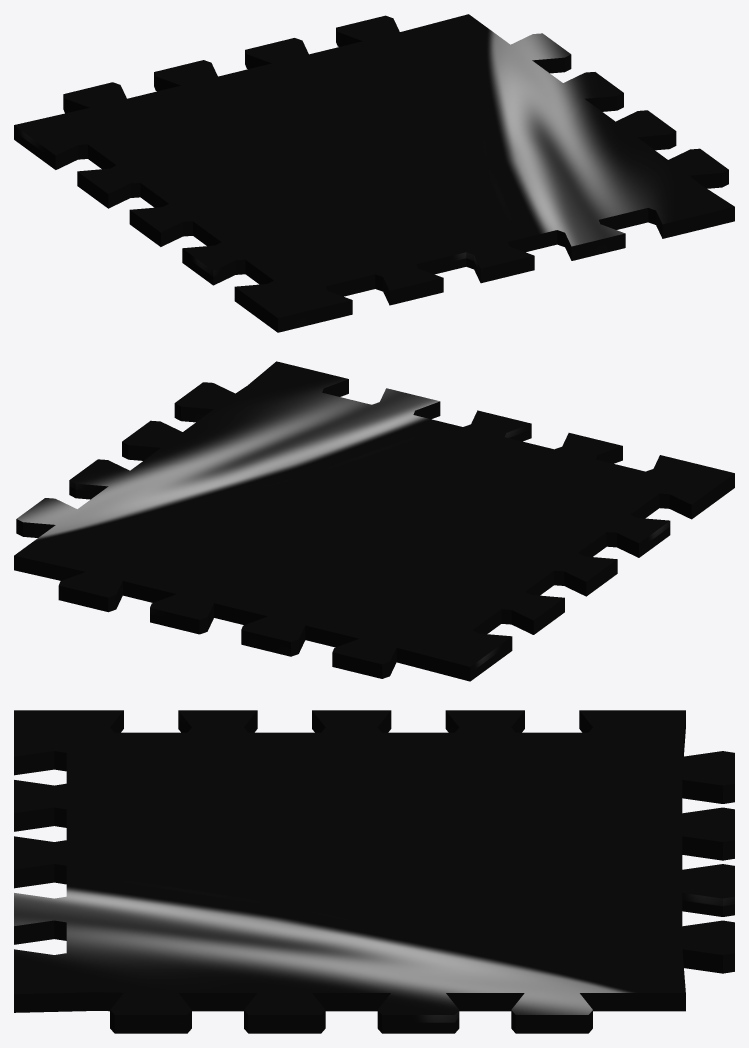
Rendered from carpet_puzzle2.fbx.
The picture shows the model from 3 angles, top to bottom: view 1: azimuth 30°, elevation 25°; view 2: azimuth 150°, elevation 25°; view 3: azimuth 270°, elevation 25°; orthographic projection. The views are drawn at different scales.
Visible parts, largest first — view 1: Plane.001; view 2: Plane.001; view 3: Plane.001.
Part boxes in pixels (x1,y1,x2,y2): Plane.001: (14, 14, 734, 332); Plane.001: (14, 361, 734, 681); Plane.001: (14, 710, 734, 1033).
Size of the model in its own units: 105 by 3 by 105.
